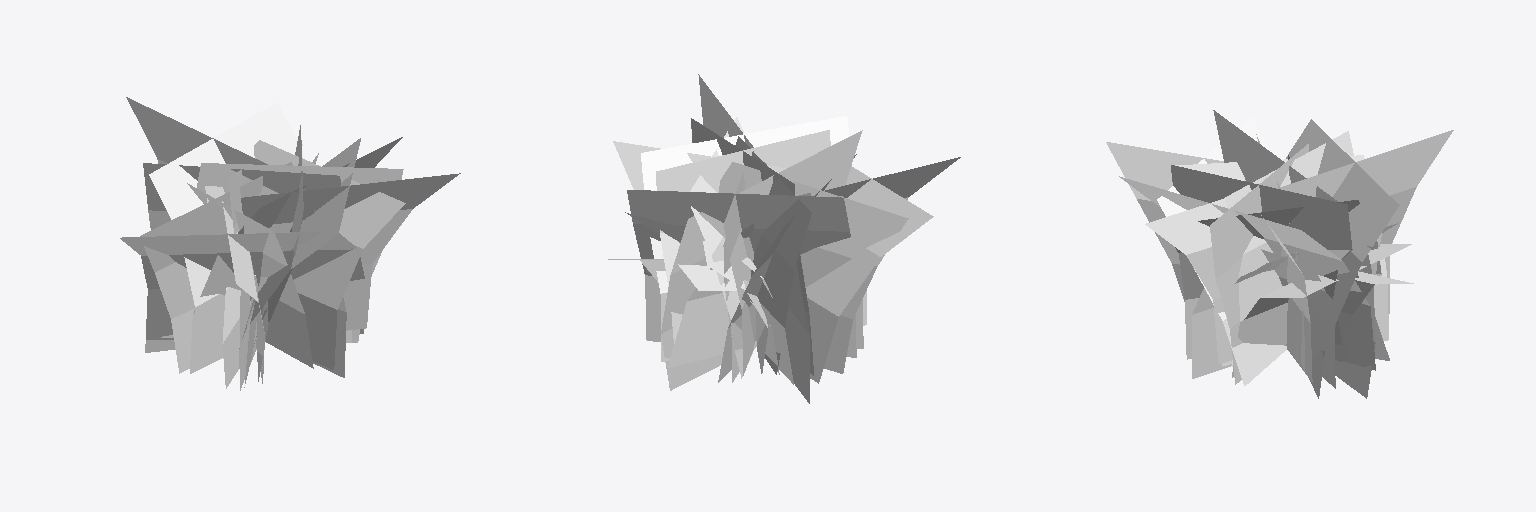
Rendered from elderbush.obj.
The picture shows the model from 3 angles: view 1: azimuth 30°, elevation 25°; view 2: azimuth 150°, elevation 25°; view 3: azimuth 270°, elevation 25°; orthographic projection.
Visible parts, largest first — view 1: elderbush128; view 2: elderbush128; view 3: elderbush128.
Boxes of the visible parts, x1=… form: elderbush128: x1=120, y1=97, x2=460, y2=390; elderbush128: x1=608, y1=74, x2=960, y2=403; elderbush128: x1=1106, y1=110, x2=1453, y2=398.
Bounding box in the file's own units: 7.04 × 5.17 × 7.01.